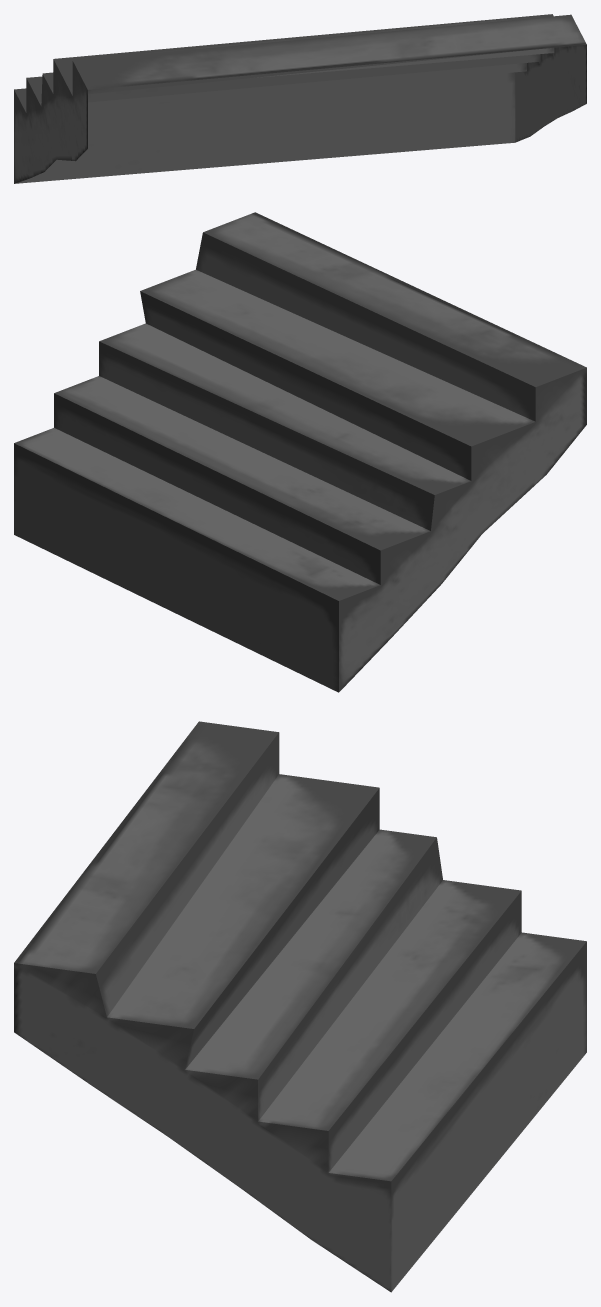
Rendered from stairs_uv1.fbx.
The picture shows the model from 3 angles, top to bottom: view 1: azimuth 30°, elevation 25°; view 2: azimuth 150°, elevation 25°; view 3: azimuth 270°, elevation 25°; orthographic projection. The views are drawn at different scales.
Visible parts, largest first — view 1: stairs_uv1; view 2: stairs_uv1; view 3: stairs_uv1.
Boxes of the visible parts, x1,y1,x2,y2 form: stairs_uv1: [14, 14, 586, 183]; stairs_uv1: [14, 212, 586, 692]; stairs_uv1: [14, 721, 586, 1292].
Bounding box in the file's own units: 8.83 × 3.93 × 7.31.
